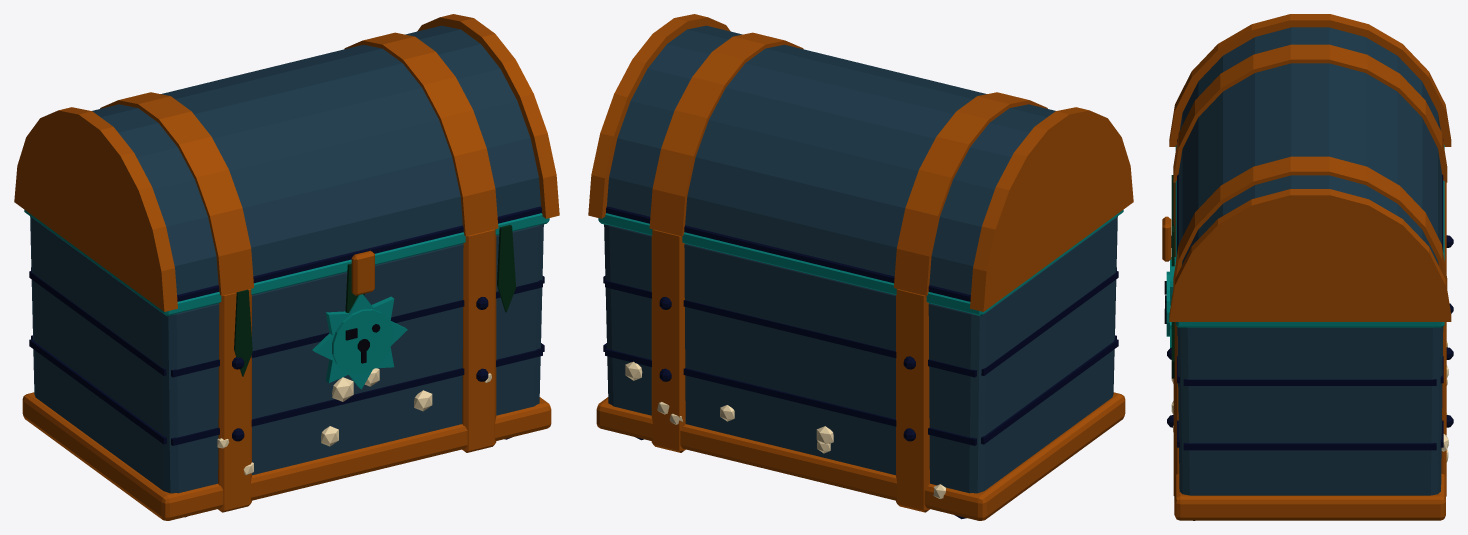
File: tb_chest_sea.three-web-toon.glb
The picture shows the model from 3 angles, left to right: view 1: azimuth 30°, elevation 25°; view 2: azimuth 150°, elevation 25°; view 3: azimuth 270°, elevation 25°; orthographic projection. The views are drawn at different scales.
Parts seen in each view (by area): view 1: chest_body, chest_lid; view 2: chest_body, chest_lid; view 3: chest_lid, chest_body.
Part boxes in pixels (x1=…): chest_body: x1=22, y1=210, x2=551, y2=520; chest_lid: x1=14, y1=14, x2=559, y2=311; chest_body: x1=596, y1=210, x2=1125, y2=520; chest_lid: x1=588, y1=14, x2=1133, y2=311; chest_lid: x1=1162, y1=14, x2=1451, y2=321; chest_body: x1=1164, y1=145, x2=1453, y2=520.
Bounding box in the file's own units: 1.59 × 1.4 × 1.08.
